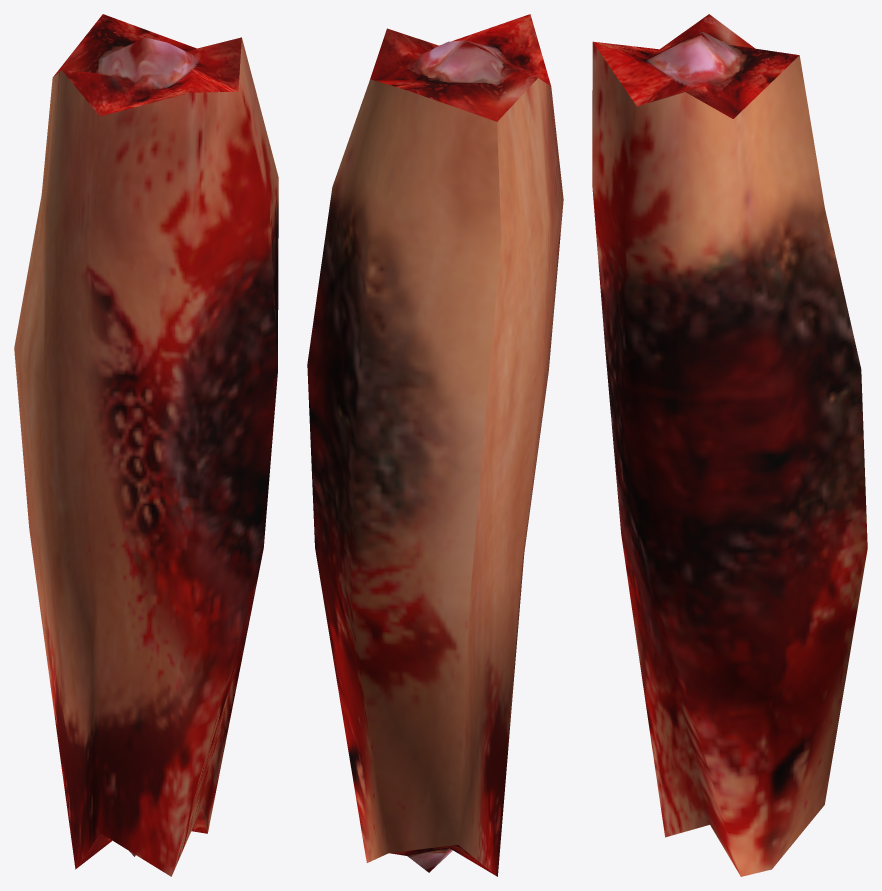
File: female_lt_lowleg.fbx
The picture shows the model from 3 angles, left to right: view 1: azimuth 30°, elevation 25°; view 2: azimuth 150°, elevation 25°; view 3: azimuth 270°, elevation 25°; orthographic projection. The views are drawn at different scales.
Parts seen in each view (by area): view 1: fm_lt_lowleg_gib; view 2: fm_lt_lowleg_gib; view 3: fm_lt_lowleg_gib.
Boxes of the visible parts, x1=… form: fm_lt_lowleg_gib: x1=14, y1=14, x2=278, y2=876; fm_lt_lowleg_gib: x1=307, y1=14, x2=563, y2=876; fm_lt_lowleg_gib: x1=592, y1=14, x2=867, y2=876.
Bounding box in the file's own units: 0.1252 × 0.4586 × 0.1412.
